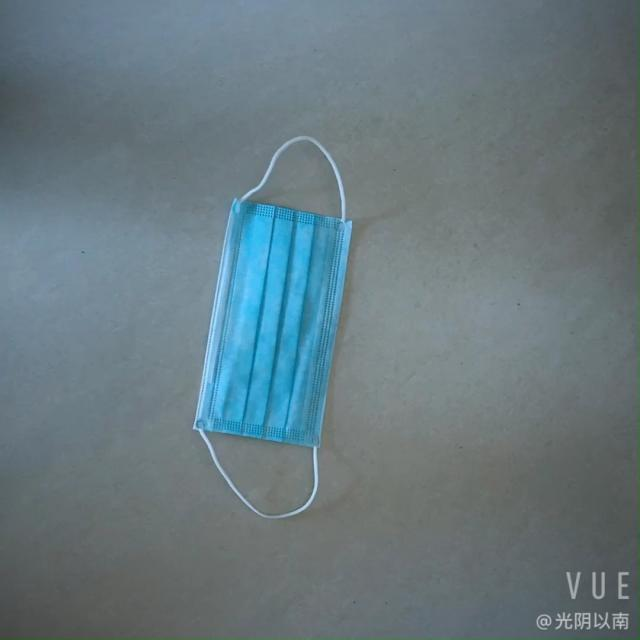face mask: (186, 176, 364, 457)
